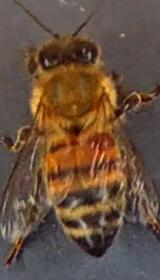varroa_mite: (74, 116, 120, 157)
